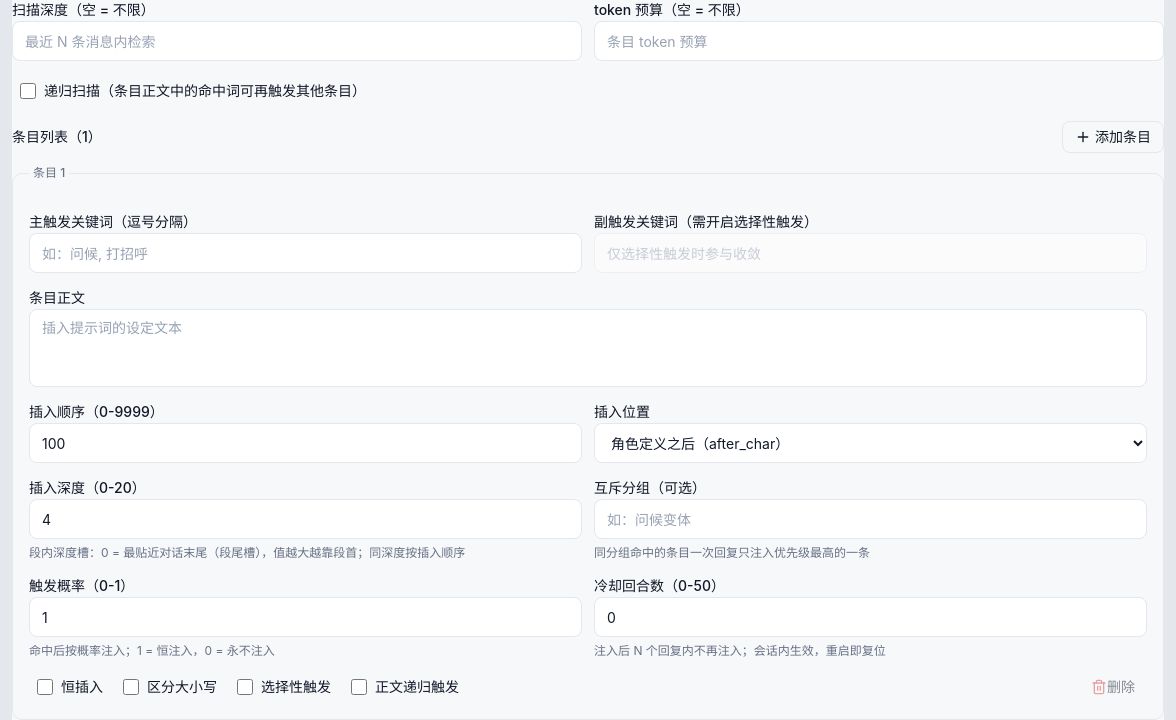
Scenario: CharacterBookEditor › R2b：正文递归触发开关（条目级——与书级递归扫描开关联动校验）
The image size is (1176, 720).
(page scrolled)
Click the checkbox labelled "正文递归触发": [359, 687] box [351,679,367,695]
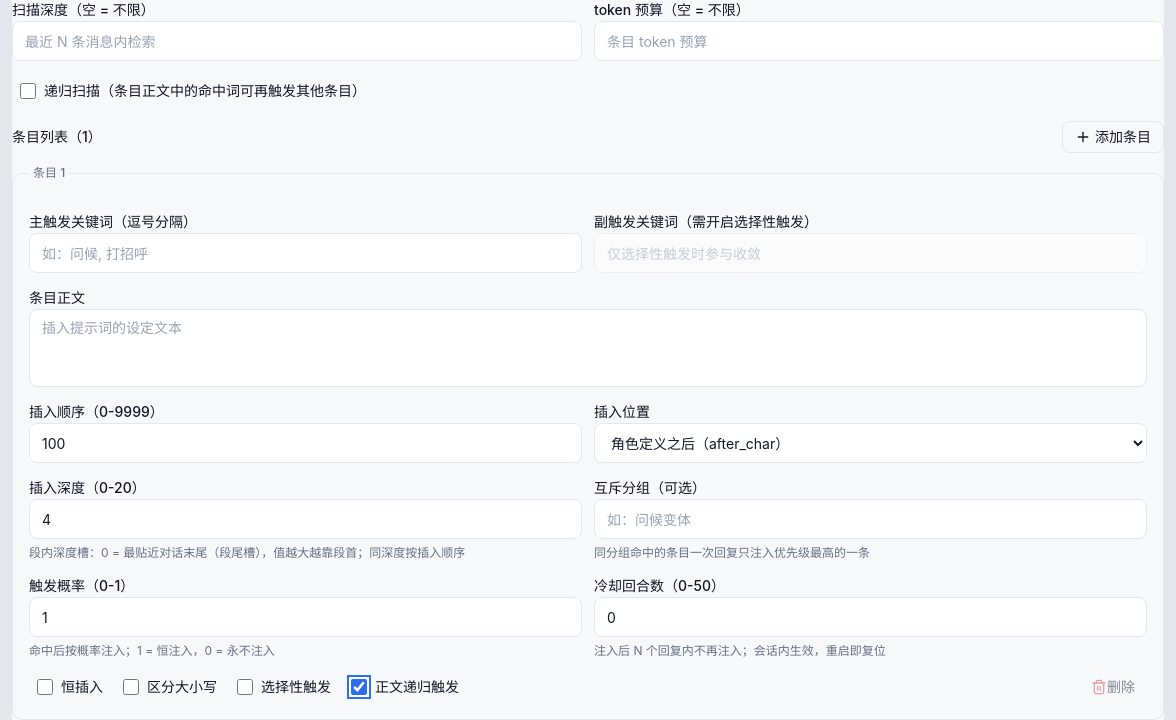
Expected: the checkbox labelled "正文递归触发" is checked, [351,679,367,695]
Click the checkbox labelled "递归扫描（条目正文中的命中词可再触发其他条目）": [28, 91] box [20,83,36,99]
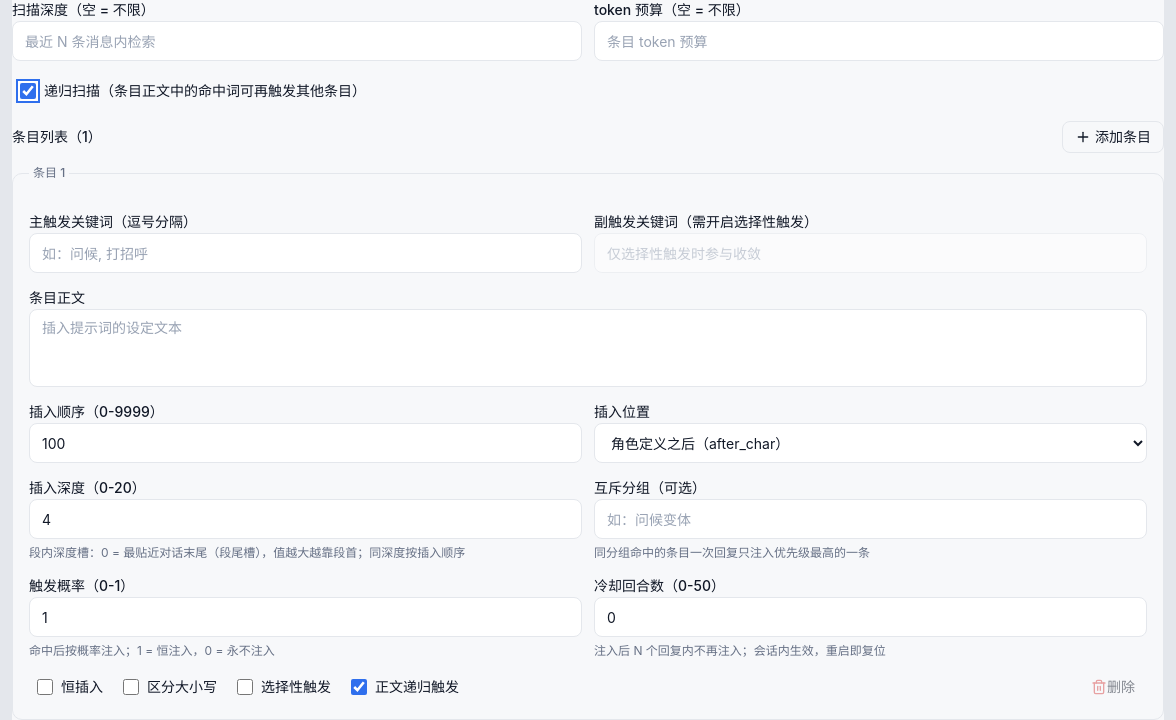
Expected: the checkbox labelled "递归扫描（条目正文中的命中词可再触发其他条目）" is checked, [20,83,36,99]
